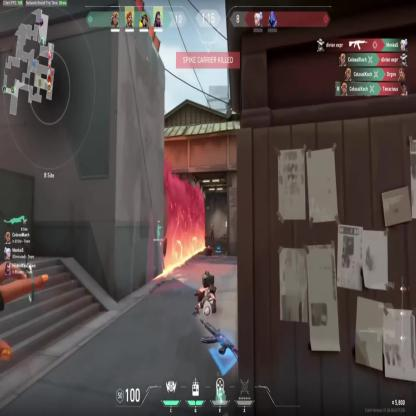enemy: (210, 221, 214, 242)
enemy_head: (211, 222, 213, 228)
